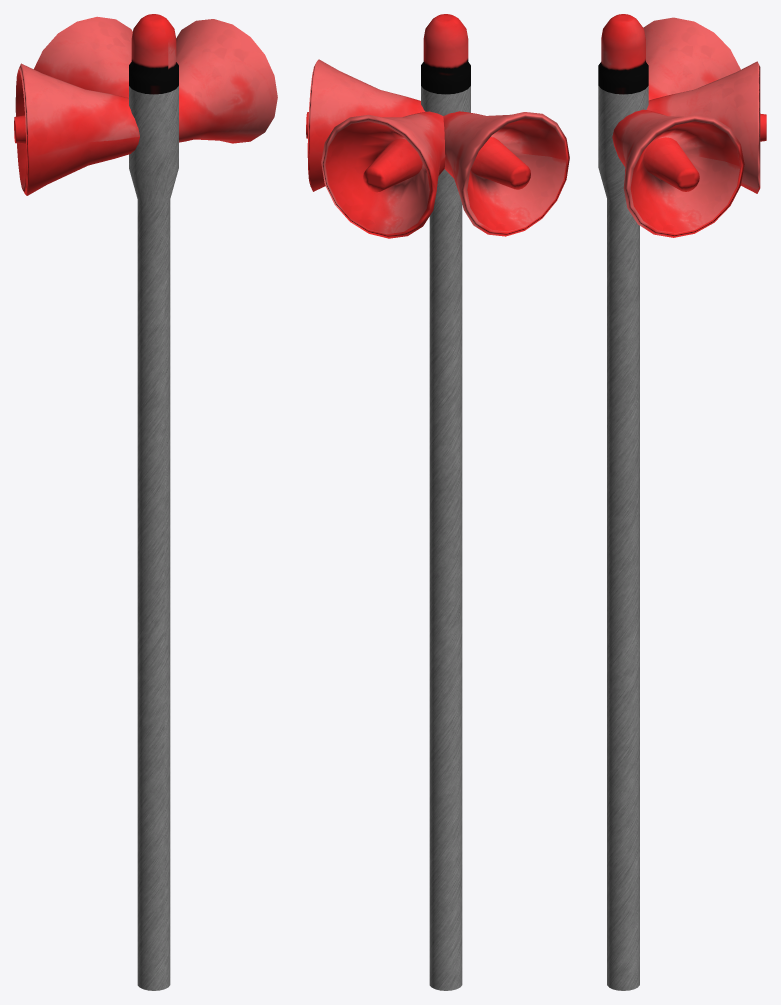
File: trippleSirenAlarm.glb
3 renders of one model, left to right at view 1: azimuth 30°, elevation 25°; view 2: azimuth 150°, elevation 25°; view 3: azimuth 270°, elevation 25°, orthographic.
Visible parts, largest first — view 1: trippleSirenAlarm; view 2: trippleSirenAlarm; view 3: trippleSirenAlarm.
Part boxes in pixels (x1,y1,x2,y2): trippleSirenAlarm: (14,14,277,990); trippleSirenAlarm: (306,14,569,990); trippleSirenAlarm: (598,14,766,990).
Size of the model in its own units: 0.8272 by 3.07 by 0.4848.
Materials: 3 (3 with a texture image).
